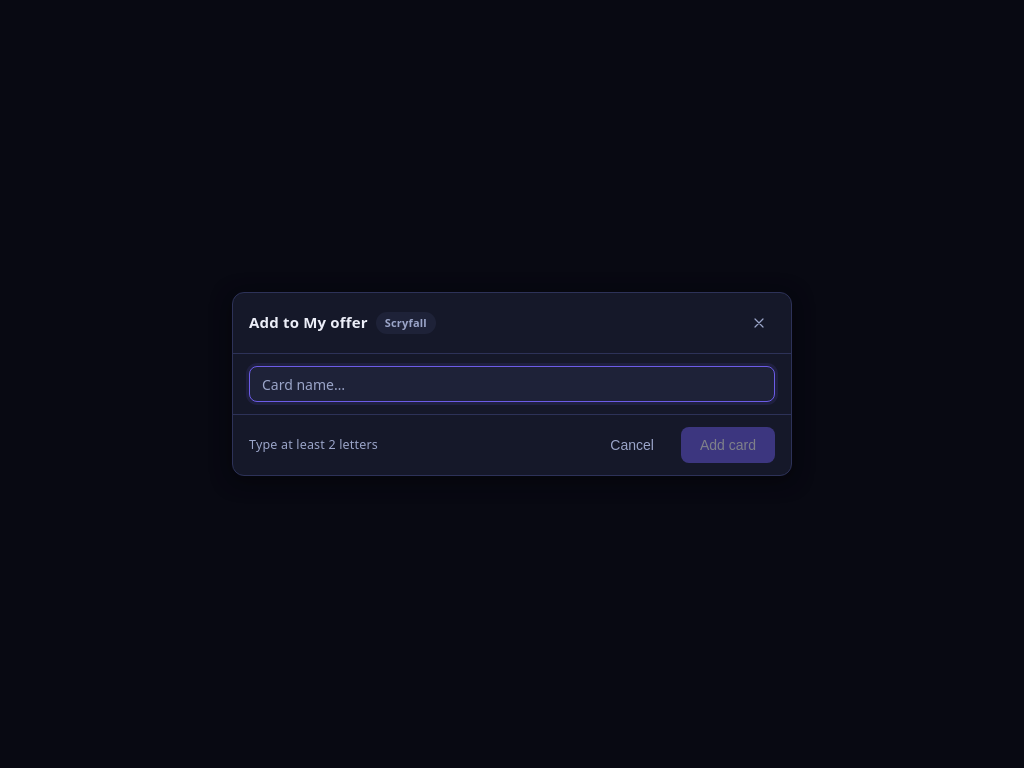
Test case: CardSearchSheet › debounces autocomplete and lists suggestions
Type "light" into the dropdown at x=512, y=384, box [249,366,775,402]
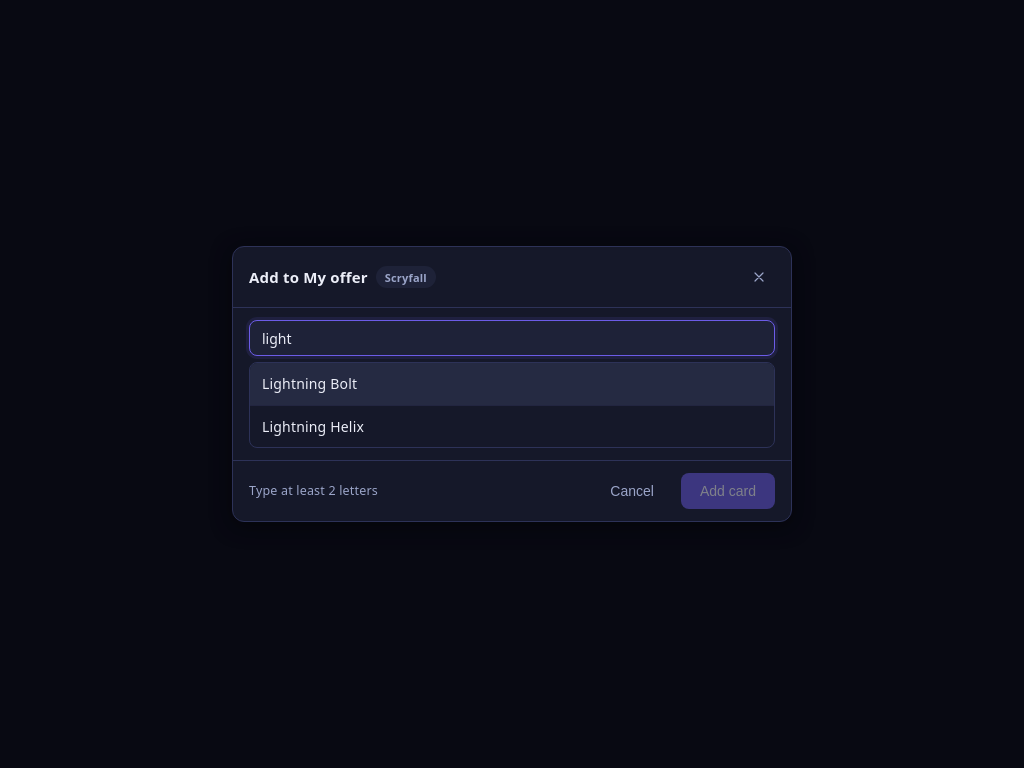
Result: the number of options is 2 at [250,363,774,404]; [250,404,774,447]
